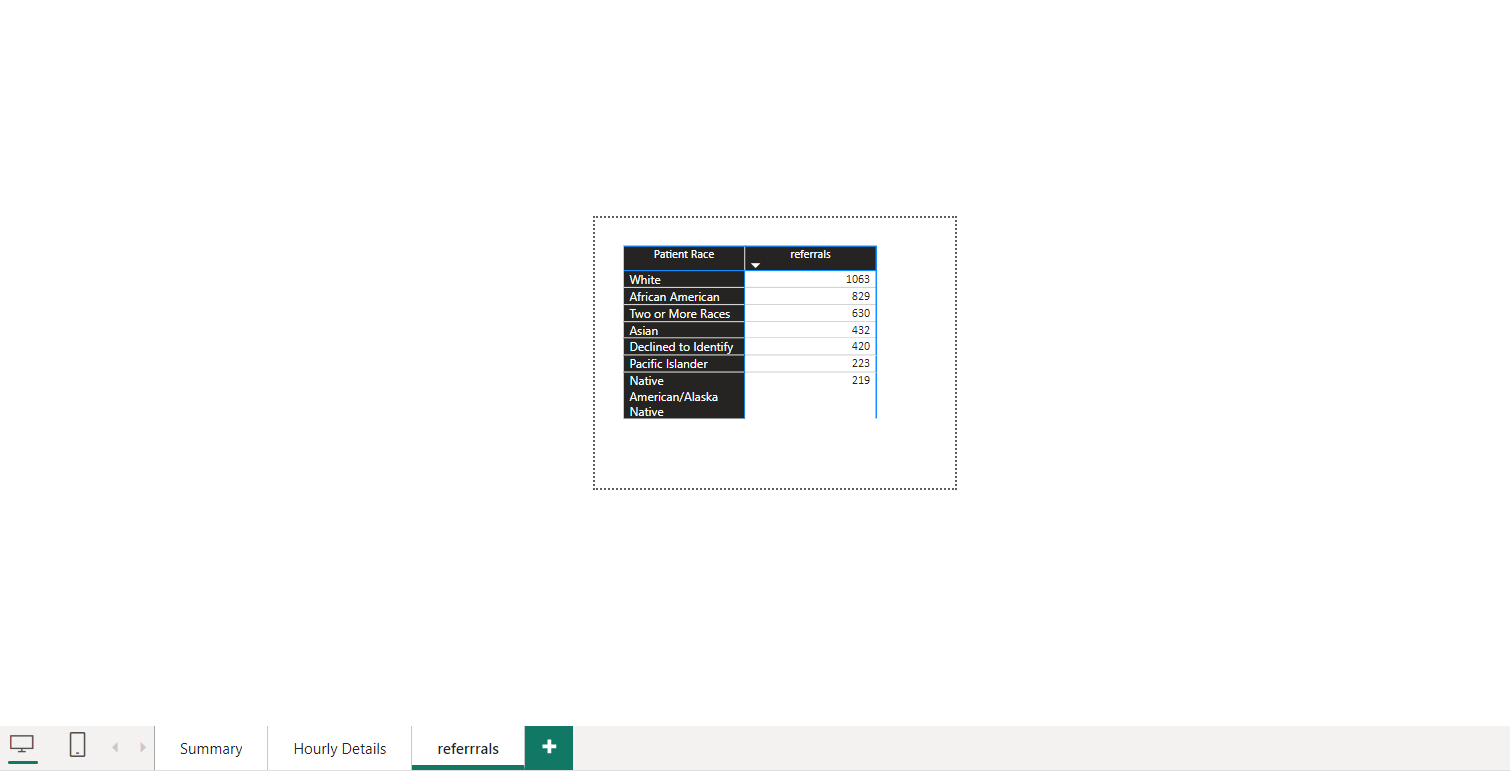

The page's visual inventory and layout, read from the dashboard file:
{"tool":"powerbi","page":{"name":"referrrals","canvas":[320,240],"ordinal":2},"visuals":[{"type":"pivotTable","title":"Referrals","fields":{"Rows":["Dim_Patient_Race.Patient Race"],"Values":["Measures_Table.referrals"]},"box":[25,22,228,162],"z":0}]}

Visuals, with their boxes on the page's 320x240 design canvas (x1, y1, x2, y2). These are canvas units, not pixel positions in the 1510x771 screenshot, which may show the page scaled, cropped or inside an application window:
"Referrals" pivotTable: <box>25,22,253,184</box>
